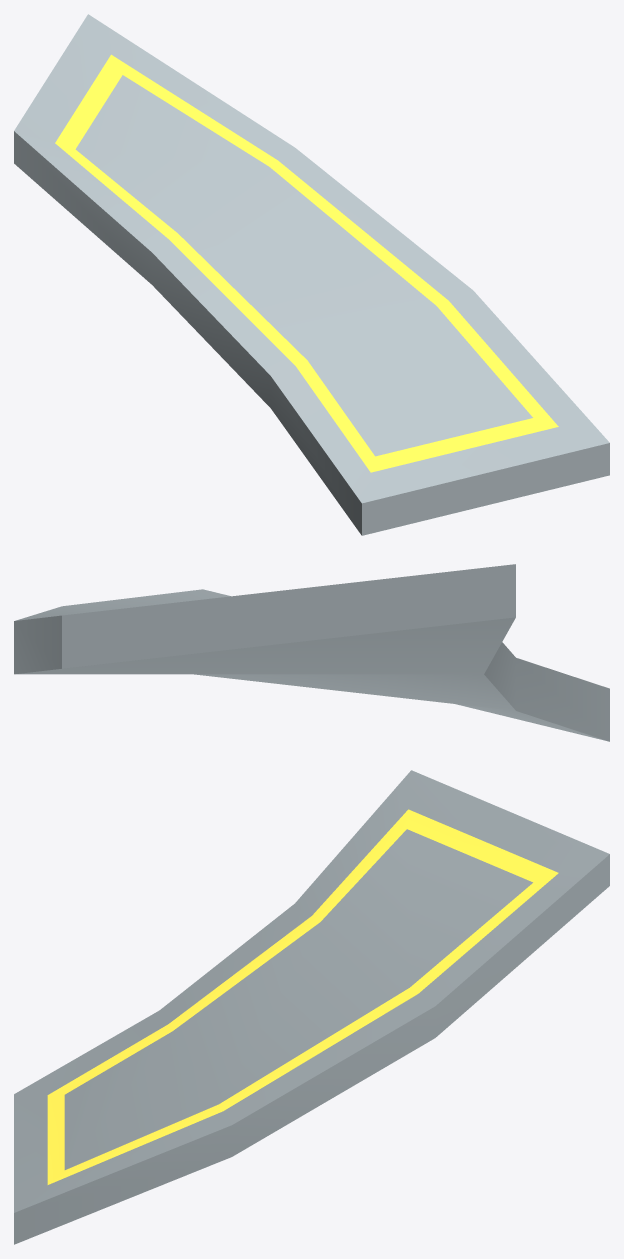
Rendered from SM_PlatformUpwards45Degree_v0.fbx.
3 views of the same model, one above another, from view 1: azimuth 30°, elevation 25°; view 2: azimuth 150°, elevation 25°; view 3: azimuth 270°, elevation 25° (orthographic). The views are drawn at different scales.
Visible parts, largest first — view 1: SM_PlatformUpwards45Degree_v0; view 2: SM_PlatformUpwards45Degree_v0; view 3: SM_PlatformUpwards45Degree_v0.
Boxes of the visible parts, x1,y1,x2,y2 form: SM_PlatformUpwards45Degree_v0: (14, 14, 609, 535); SM_PlatformUpwards45Degree_v0: (14, 564, 609, 741); SM_PlatformUpwards45Degree_v0: (14, 770, 609, 1244).
Bounding box in the file's own units: 1.59 × 1.12 × 2.12.
